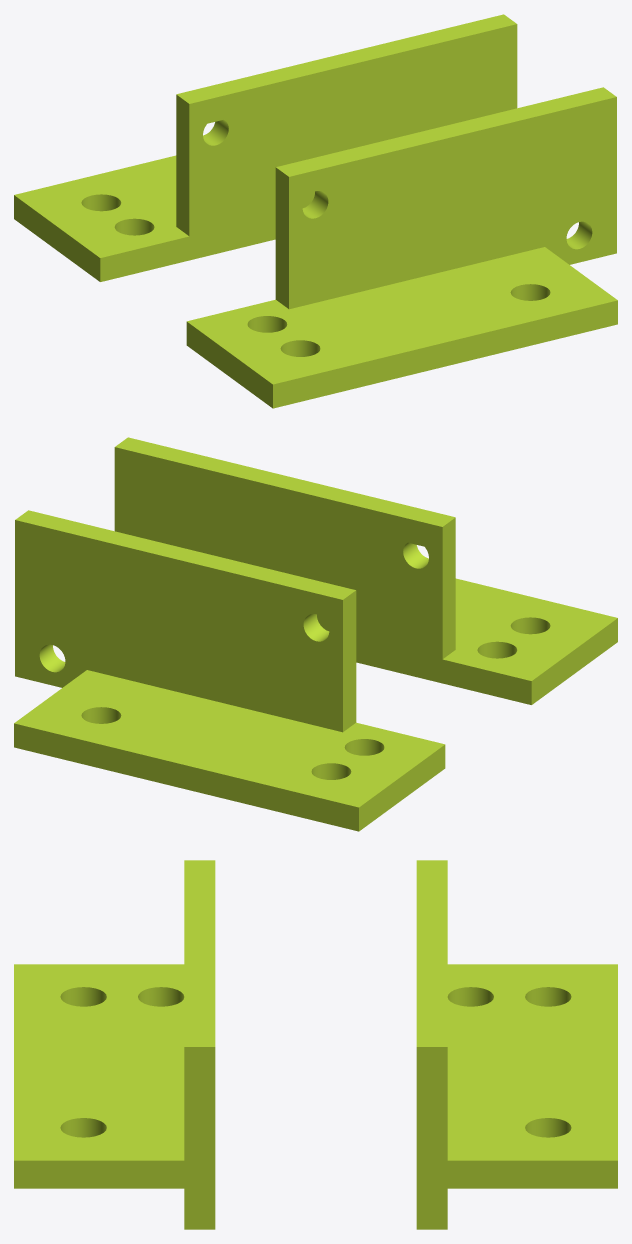
Rendered from laser_mount.dae.
3 views of the same model, one above another, from view 1: azimuth 30°, elevation 25°; view 2: azimuth 150°, elevation 25°; view 3: azimuth 270°, elevation 25° (orthographic). The views are drawn at different scales.
Visible parts, largest first — view 1: group_0 (×4), group_1 (×3); view 2: group_1 (×4), group_0 (×3); view 3: group_0 (×4), group_1 (×4).
Boxes of the visible parts, x1,y1,x2,y2 form: group_0 (×4): (186,87,617,408); group_1 (×3): (14,14,517,281); group_1 (×4): (14,510,445,831); group_0 (×3): (114,437,617,704); group_0 (×4): (14,860,215,1229); group_1 (×4): (416,860,617,1229).
Size of the model in its own units: 2.85 by 3.07 by 1.02.
